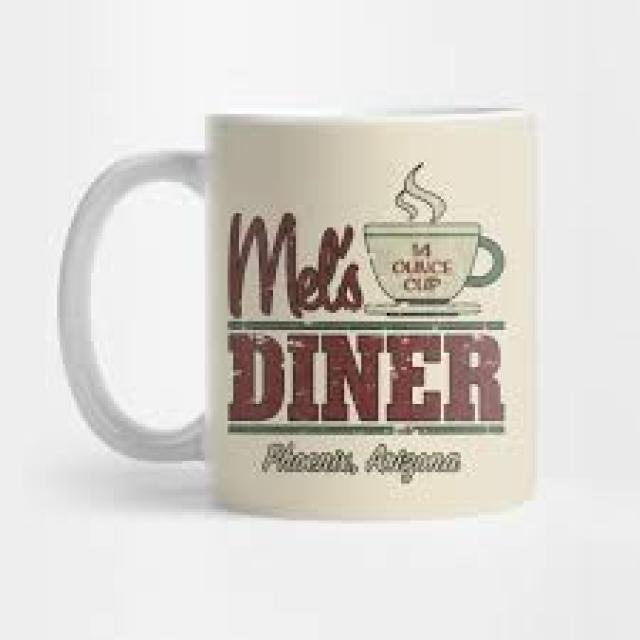taza: (55, 107, 541, 520)
